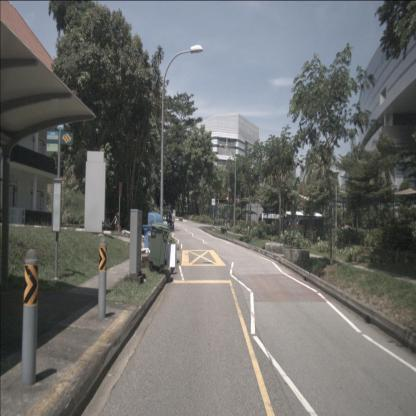human-pedestrian-adult: (168, 211, 172, 231), (171, 210, 175, 230)
vehicle-bicycle: (102, 209, 121, 231)
vehicle-bus-rigid: (284, 211, 322, 236)
vehicle-car: (292, 217, 324, 238), (258, 213, 286, 236)
